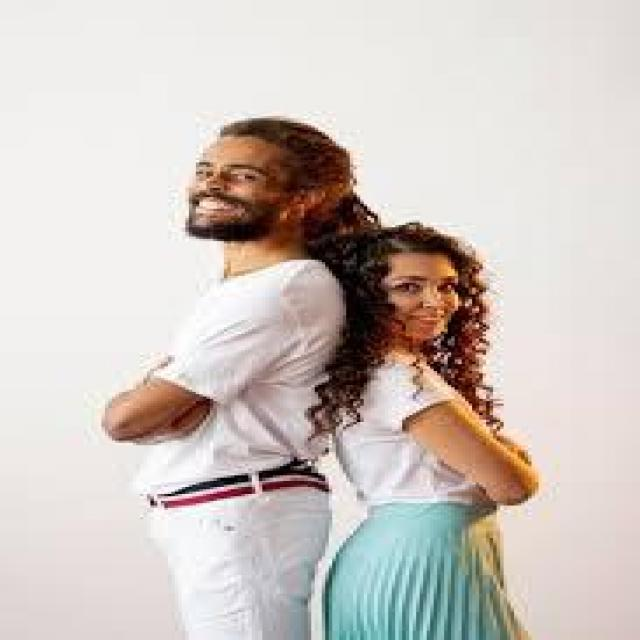person: (116, 58, 347, 638), (304, 213, 532, 638)
